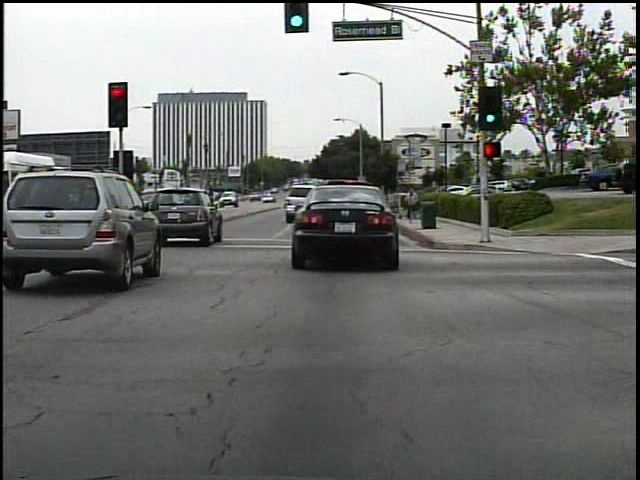person: (403, 186, 420, 225)
